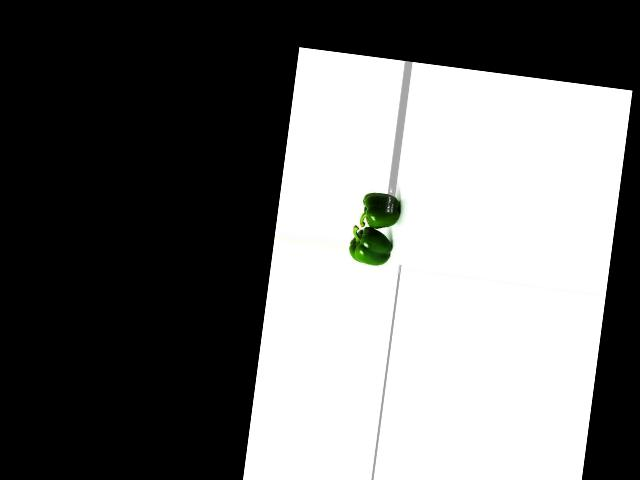bell_pepper: (344, 225, 400, 268)
